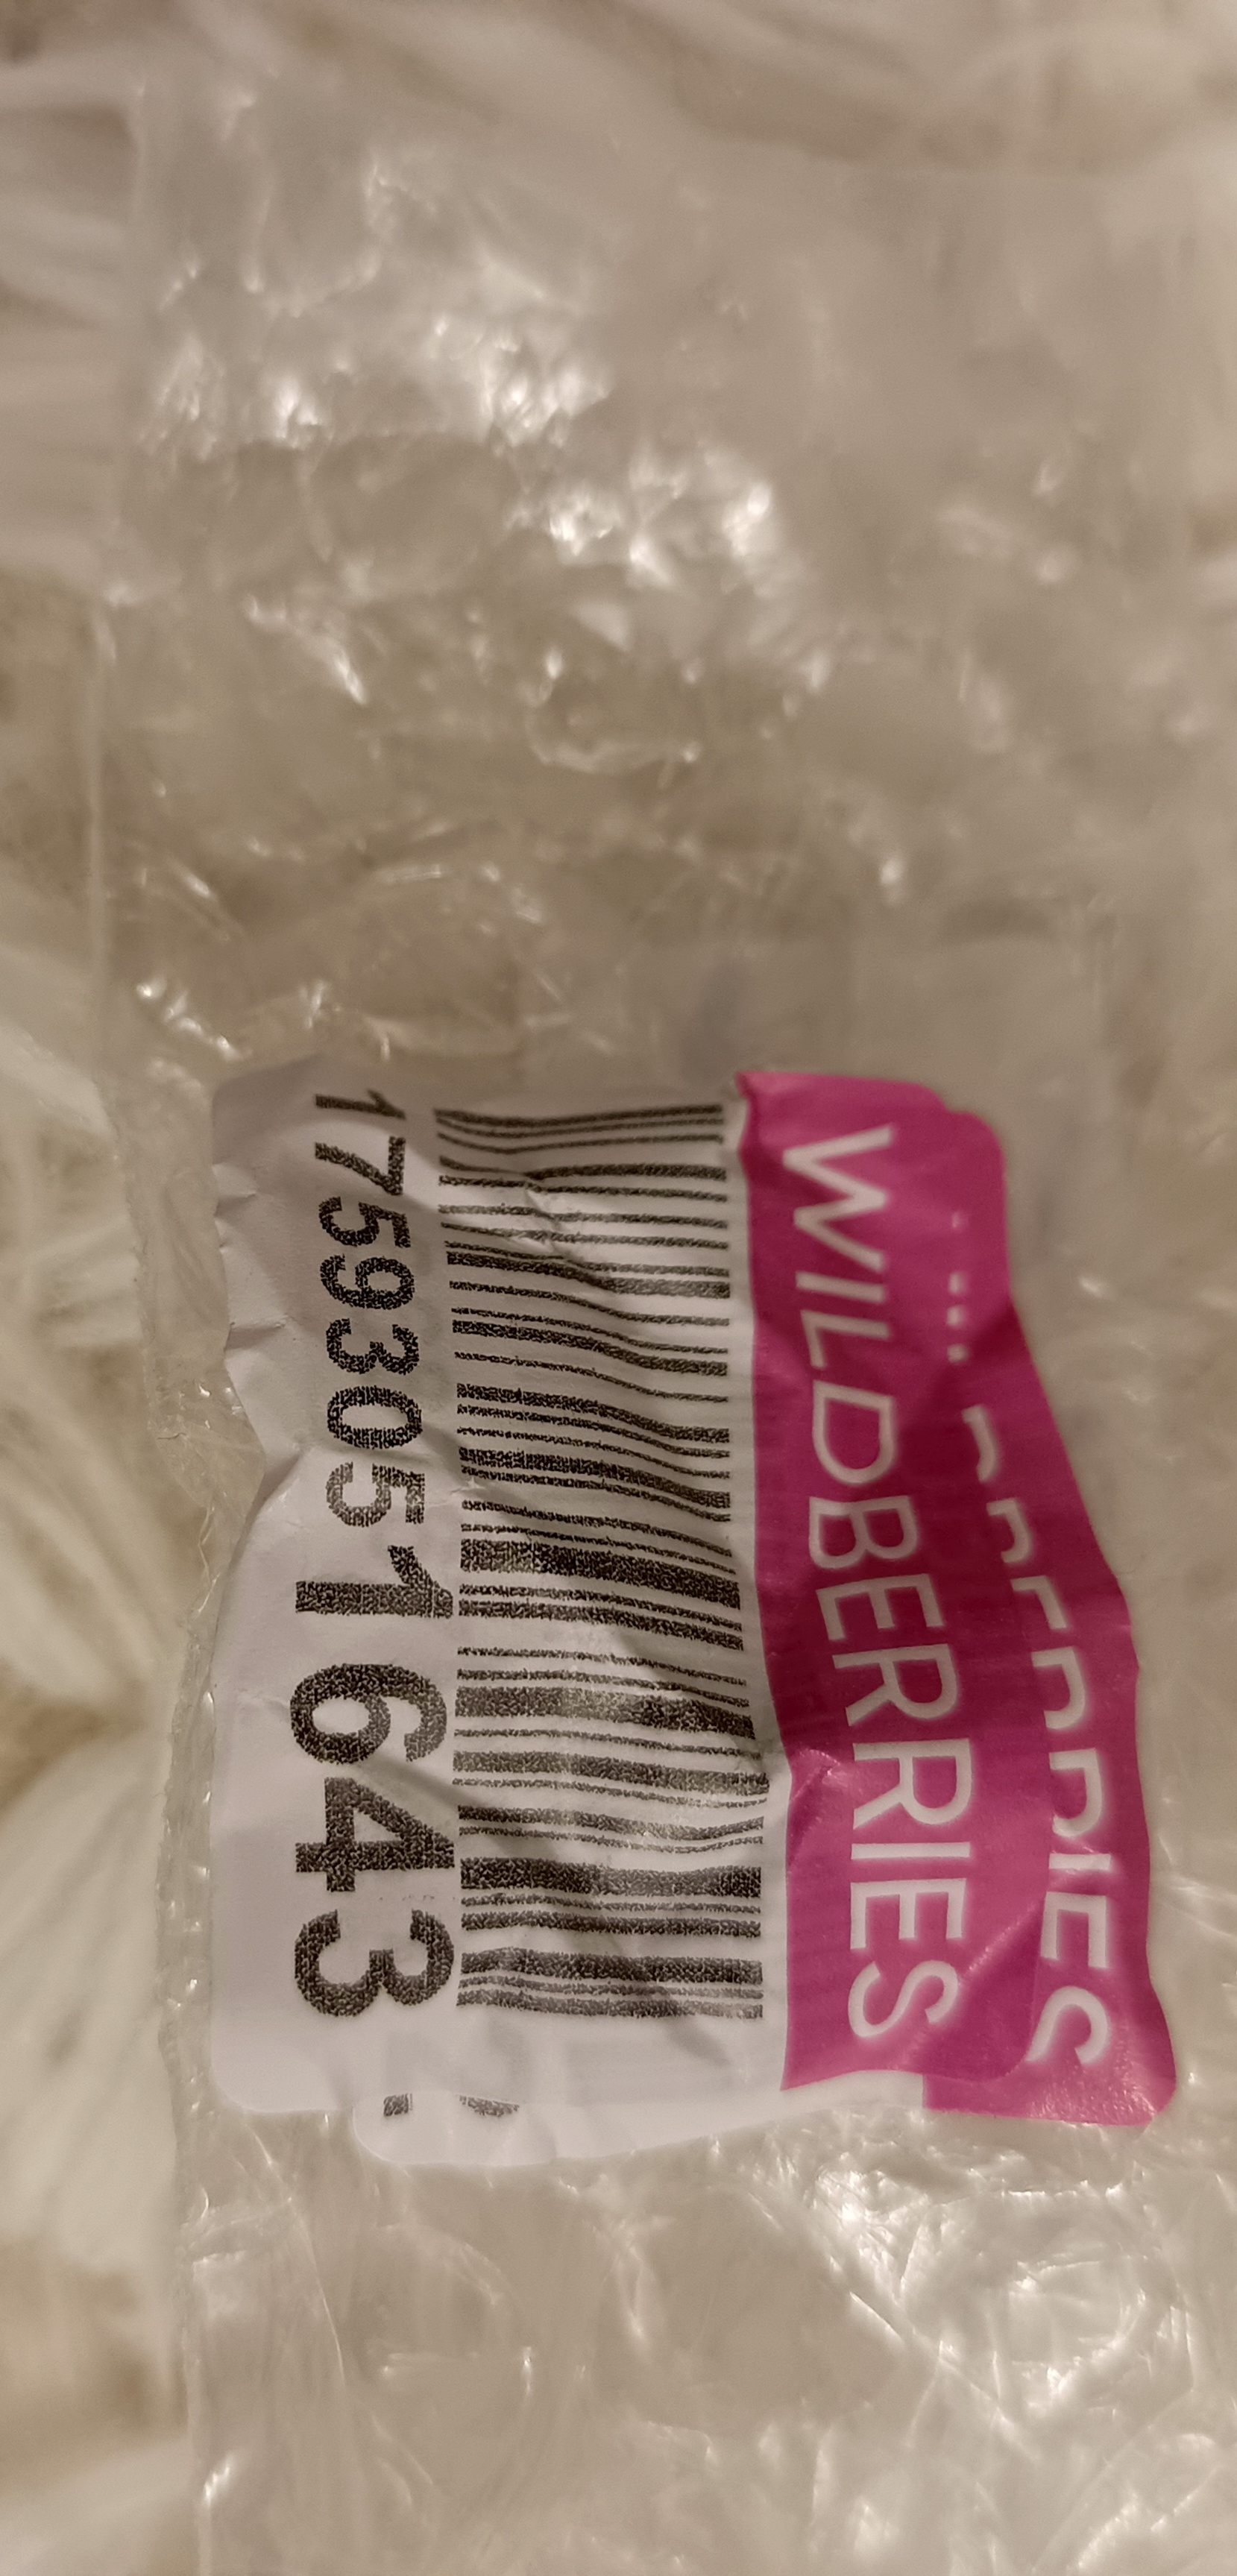1d: (437, 1102, 770, 2014)
